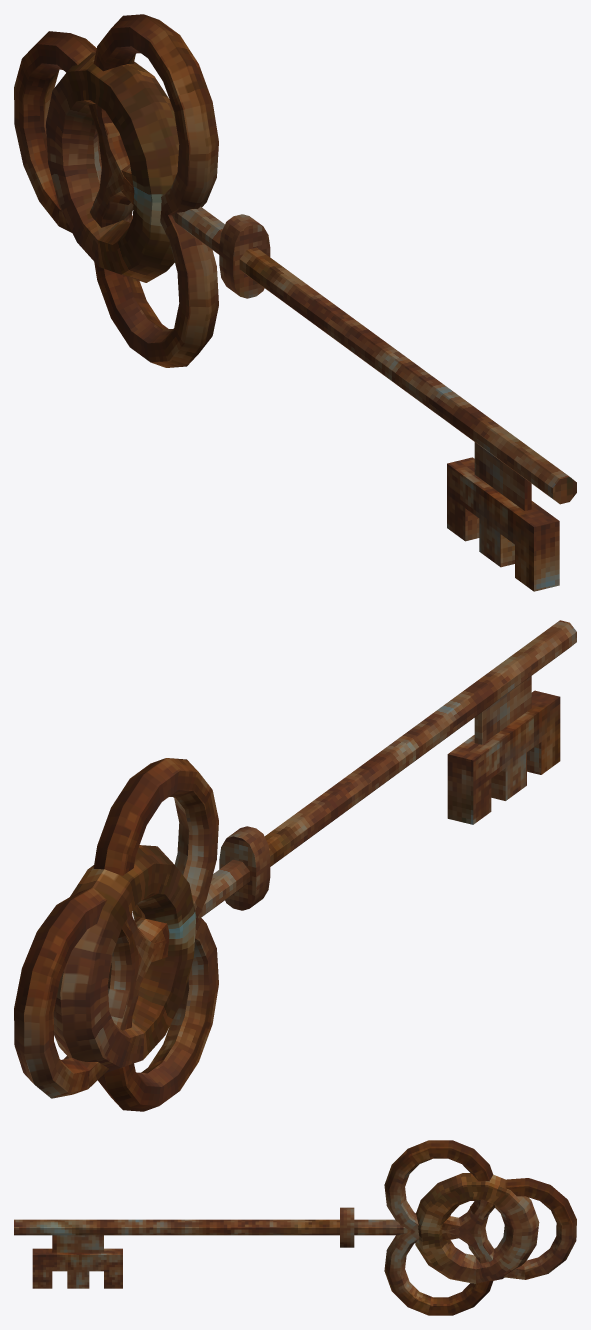
File: Key.fbx
3 renders of one model, top to bottom at view 1: azimuth 30°, elevation 25°; view 2: azimuth 150°, elevation 25°; view 3: azimuth 270°, elevation 25°, orthographic. The views are drawn at different scales.
Parts seen in each view (by area): view 1: Key; view 2: Key; view 3: Key.
Boxes of the visible parts, x1,y1,x2,y2 form: Key: (14,14,576,591); Key: (14,620,576,1111); Key: (14,1140,576,1315).
Bounding box in the file's own units: 0.1373 × 0.9517 × 2.77.
